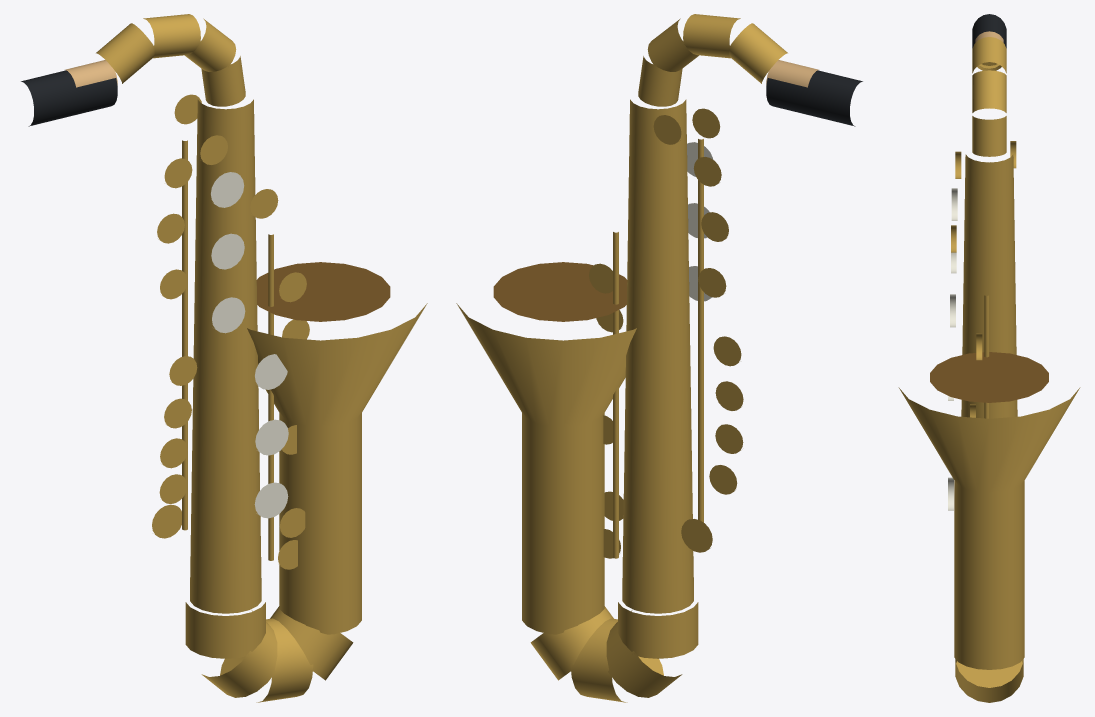
Rendered from baritone-sax.glb.
3 renders of one model, left to right at view 1: azimuth 30°, elevation 25°; view 2: azimuth 150°, elevation 25°; view 3: azimuth 270°, elevation 25°, orthographic. The views are drawn at different scales.
Visible parts, largest first — view 1: body, bell_stack, bell, bell_interior, bow_1, mouthpiece, bow_2, bow_3, bow_4, neck_4, neck_3, left_rod (+22 smaller); view 2: body, bell_stack, bell, bell_interior, bow_1, mouthpiece, bow_2, bow_3, bow_4, left_rod, neck_4, neck_3 (+14 smaller); view 3: bell_stack, body, bell, bell_interior, bow_4, neck_2, neck_1, neck_3, mouthpiece, right_rod.
Boxes of the visible parts, x1,y1,x2,y2 form: body: (190,99,261,613); bell_stack: (279,413,361,634); bell: (247,303,427,426); bell_interior: (256,262,390,321); bow_1: (185,602,265,658); mouthpiece: (21,70,117,126); bow_2: (201,610,277,697); bow_3: (256,618,313,702); bow_4: (270,606,353,680); neck_4: (96,23,154,83); neck_3: (143,14,200,58); left_rod: (182,140,187,530); body: (622,99,693,613); bell_stack: (522,413,604,634); bell: (456,303,636,426); bell_interior: (493,262,627,321); bow_1: (618,602,698,658); mouthpiece: (766,70,862,126); bow_2: (606,610,682,697); bow_3: (570,618,627,702); bow_4: (530,606,613,680); left_rod: (698,139,703,522); neck_4: (729,23,787,83); neck_3: (683,14,740,58); bell_stack: (954,480,1024,669); body: (961,154,1017,418); bell: (898,387,1080,492); bell_interior: (930,352,1048,402); bow_4: (955,661,1023,702); neck_2: (972,70,1006,112); neck_1: (972,116,1006,156); neck_3: (972,37,1006,73); mouthpiece: (972,14,1006,48); right_rod: (984,295,989,418).
Bounding box in the file's own units: 4.81 × 8.33 × 2.29.
